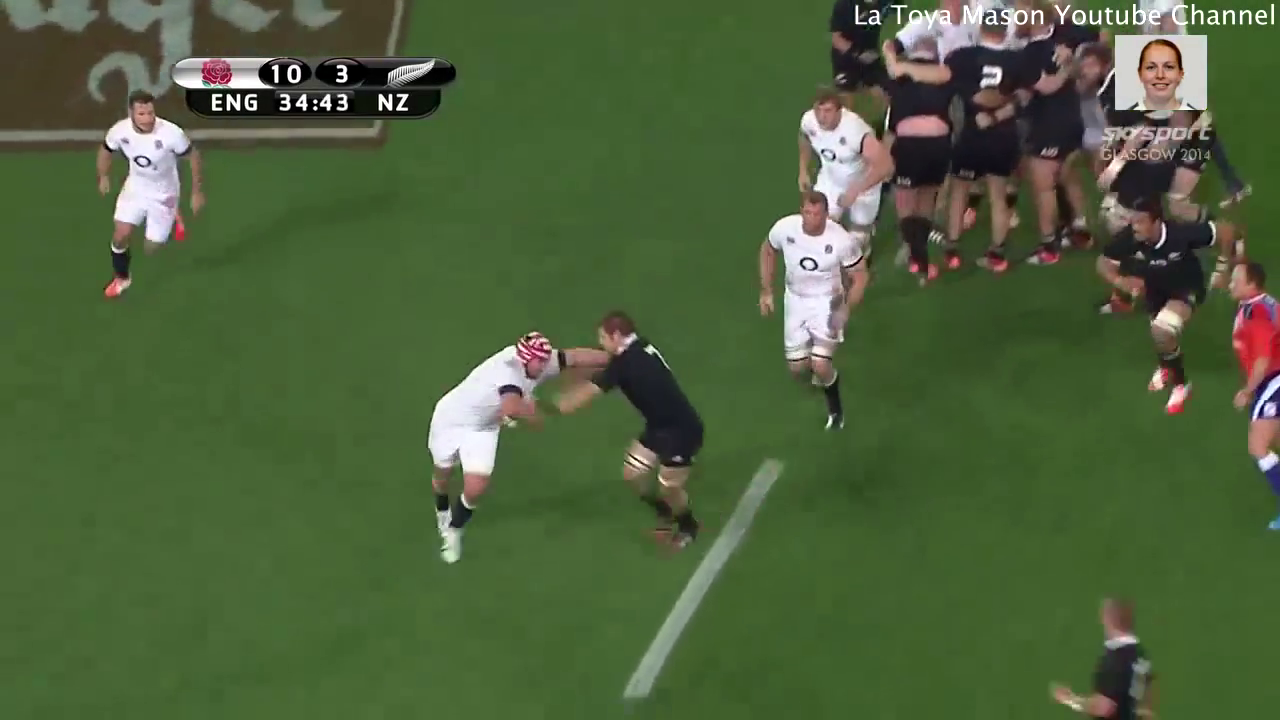maul: (845, 20, 1155, 273)
player: (413, 315, 571, 572), (744, 192, 872, 444), (585, 309, 707, 564), (1097, 197, 1220, 425), (89, 91, 206, 316), (1214, 260, 1280, 533), (1039, 598, 1167, 720), (789, 87, 884, 208)
